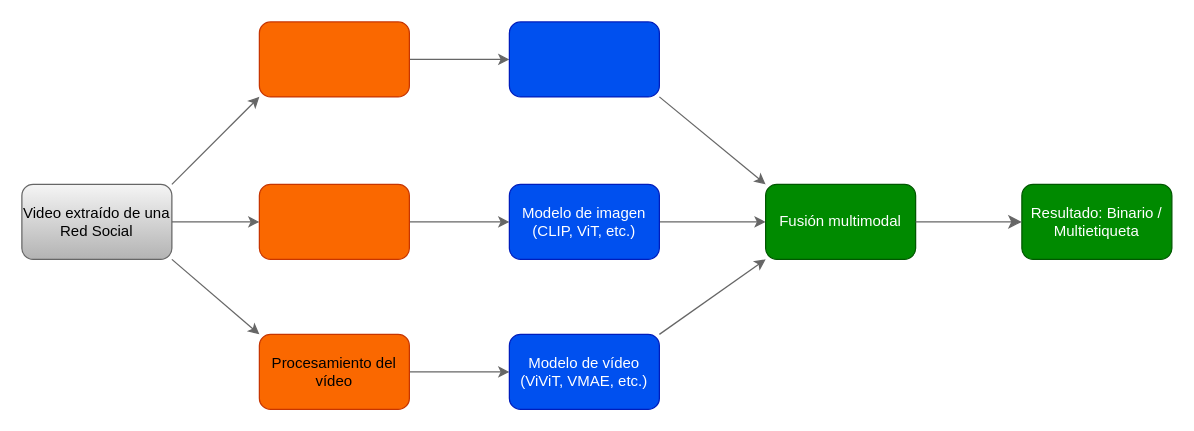
Some shapes in this 1194 by 431 pixel diagram are drawn without their labels. Here are the shapes that lost their labels. From the top down, the centre of each, then its label:
At (x=333, y=59): "Transcripción del vídeo (texto)".
At (x=583, y=59): "Modelo de lenguaje (Transformer, LLM, etc.)".
At (x=333, y=221): "Extracción de frames (imágenes)".
